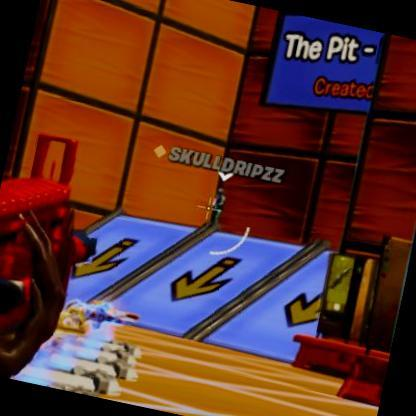person: (206, 184, 228, 226)
